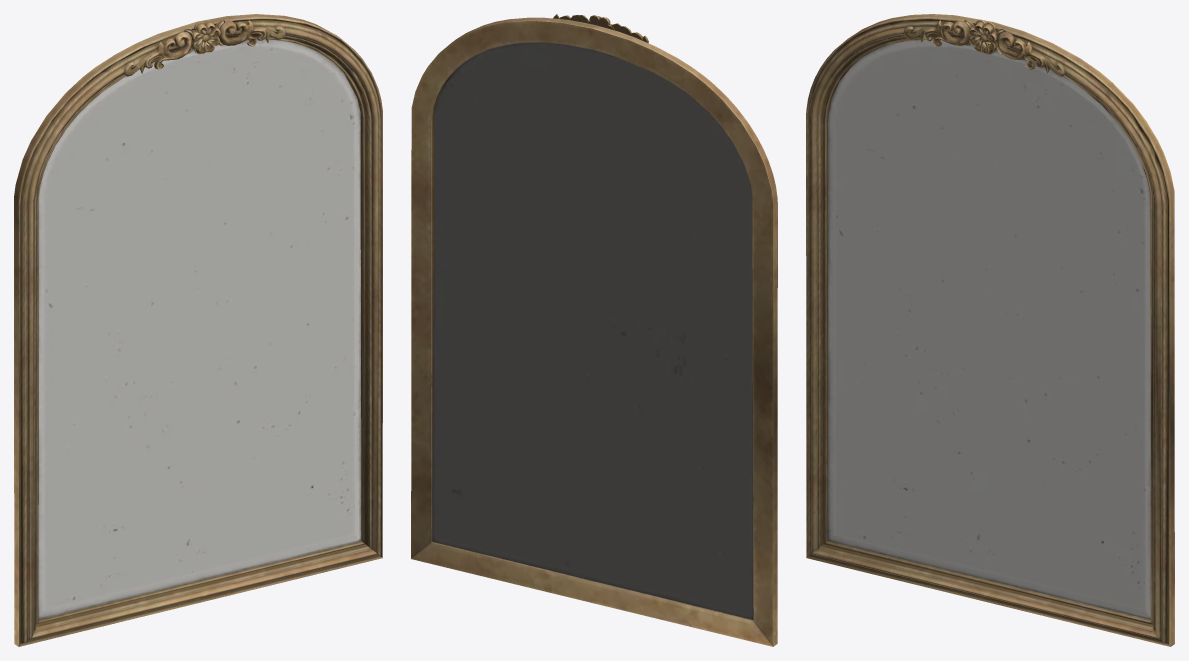
File: mirror.glb
3 views of the same model, side by side, from view 1: azimuth 30°, elevation 25°; view 2: azimuth 150°, elevation 25°; view 3: azimuth 330°, elevation 25° (orthographic).
Visible parts, largest first — view 1: ornate_mirror_01; view 2: ornate_mirror_01; view 3: ornate_mirror_01.
Boxes of the visible parts, x1,y1,x2,y2 form: ornate_mirror_01: (14, 14, 382, 646); ornate_mirror_01: (411, 14, 777, 646); ornate_mirror_01: (806, 14, 1174, 646).
Bounding box in the file's own units: 0.4857 × 0.7442 × 0.026.
Materials: 1 (1 with a texture image).
